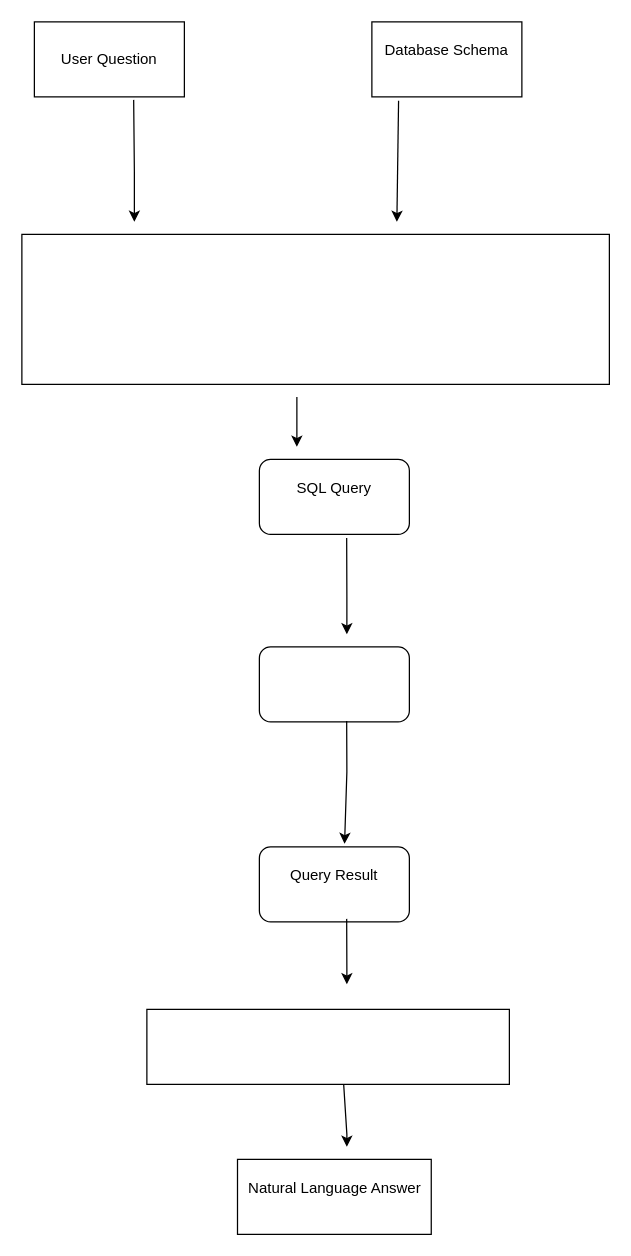
The diagram is 631 pixels wide and 1256 high, and some of its shapes have lost their labels. The centre of each missing label's shape, as x and y in pixels:
LLM / Agent (Generates SQL based on Question + Schema): [315,308]
LLM / Agent (Synthesizes Result into Natural Language): [327,1046]
Run Query: [333,684]
